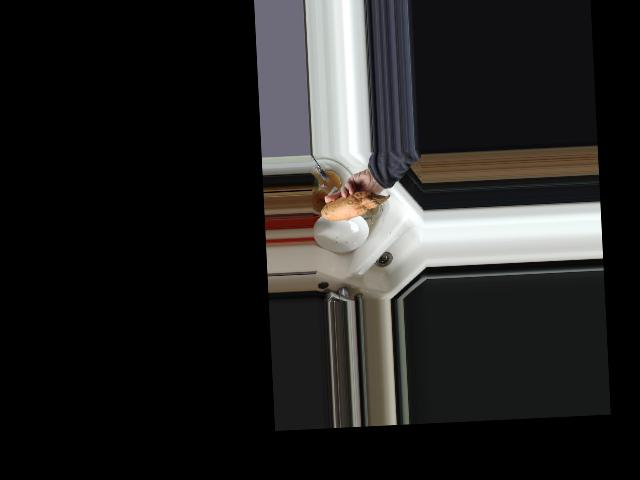sweet_potato: (320, 189, 391, 223)
